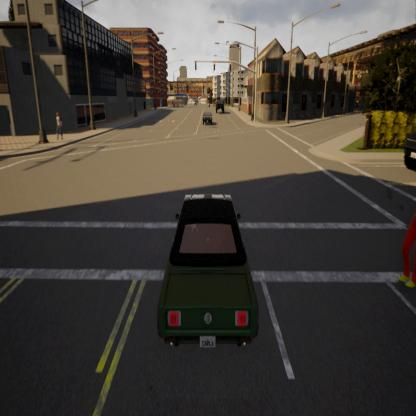Cars: (151, 158, 266, 368), (212, 92, 229, 124), (199, 108, 215, 132)
Pedestrian: (381, 167, 416, 317), (52, 106, 66, 154)
